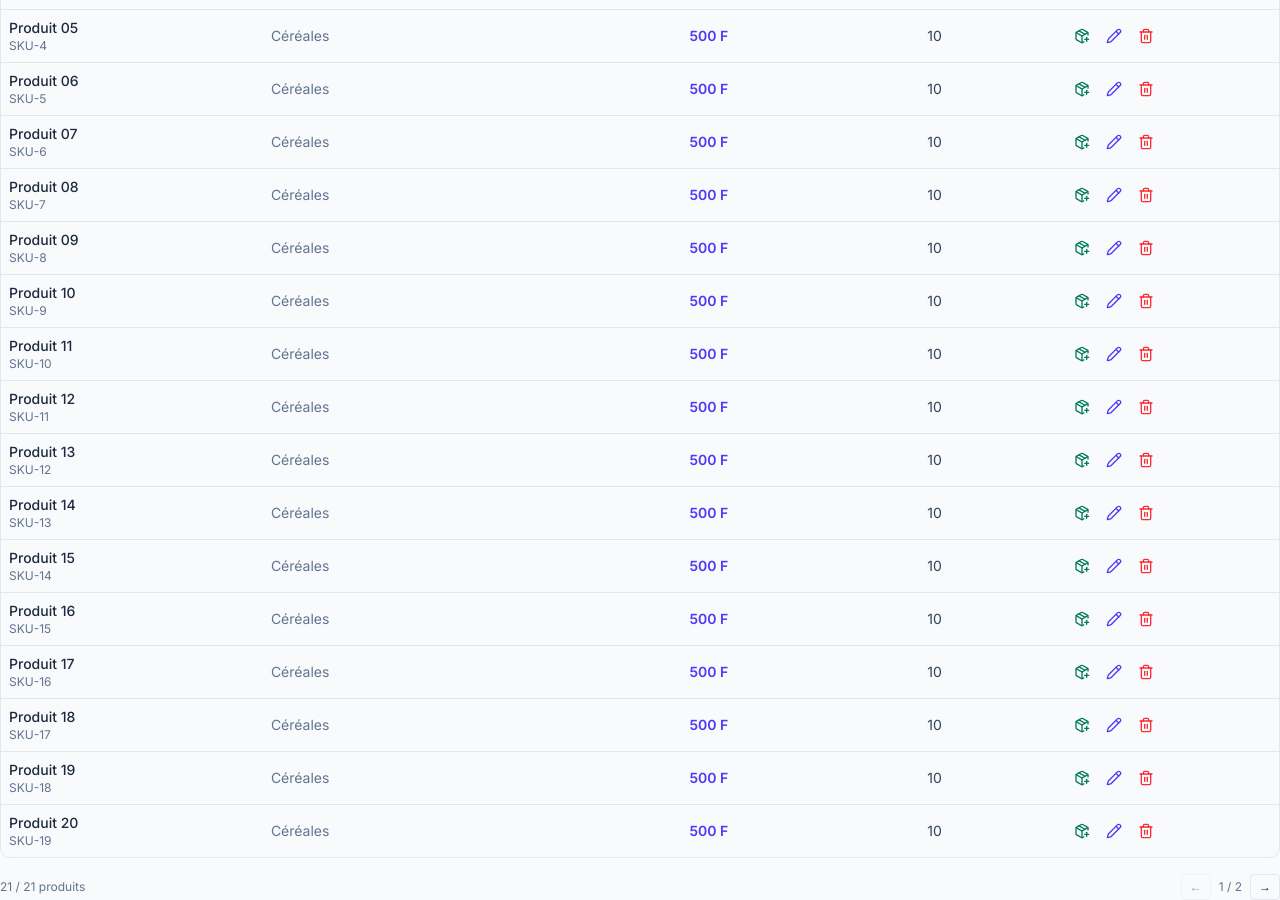
InventoryTable › pagine au-delà de vingt lignes
(page scrolled)
Expected: the text "Produit 21" is not shown
Click the button named "Page suivante".
click(1265, 886)  # box [1250,874,1279,899]
(page scrolled)
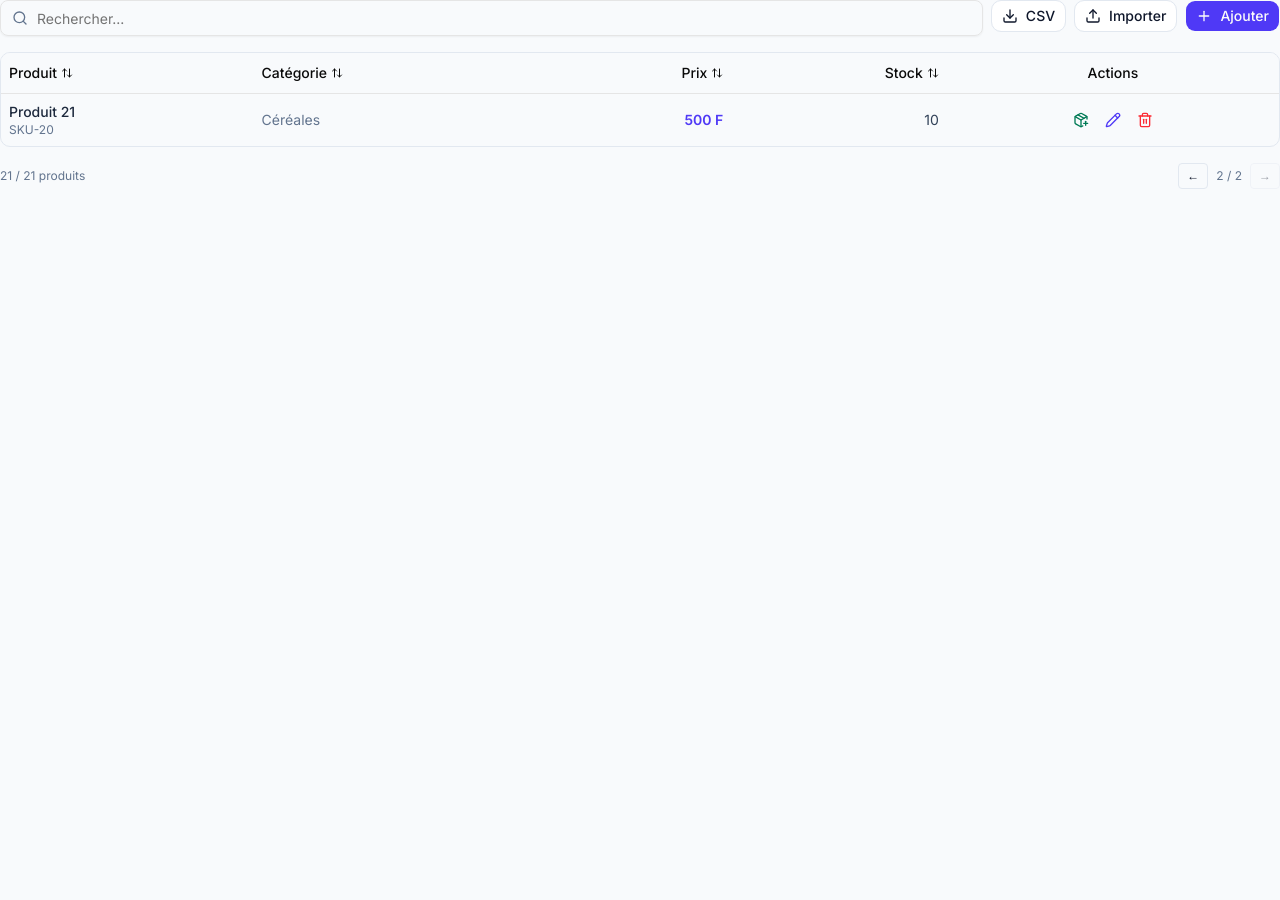
Now the text "Produit 21" is shown, box [9,102,75,120]
